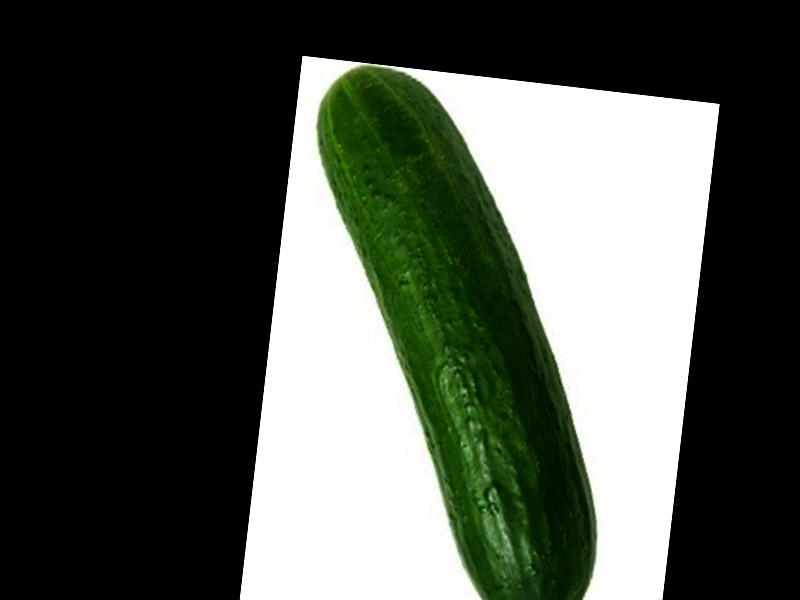Cucumber: (262, 60, 649, 600)
